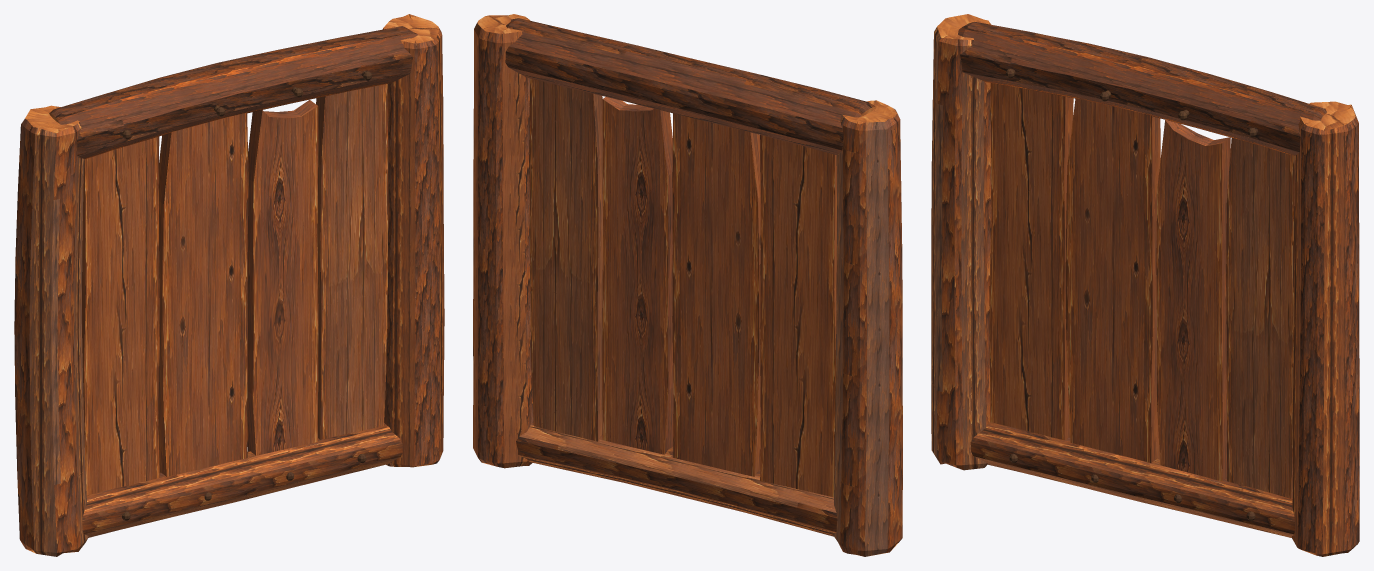
The model's file is wall__plank_root.glb.
3 renders of one model, left to right at view 1: azimuth 30°, elevation 25°; view 2: azimuth 150°, elevation 25°; view 3: azimuth 330°, elevation 25°, orthographic.
Visible parts, largest first — view 1: model; view 2: model; view 3: model.
Boxes of the visible parts, x1=… form: model: x1=14, y1=14, x2=444, y2=556; model: x1=473, y1=14, x2=902, y2=556; model: x1=931, y1=14, x2=1359, y2=556.
Size of the model in its own units: 1.98 by 1.99 by 0.2862.
Materials: 15 (15 with a texture image).
